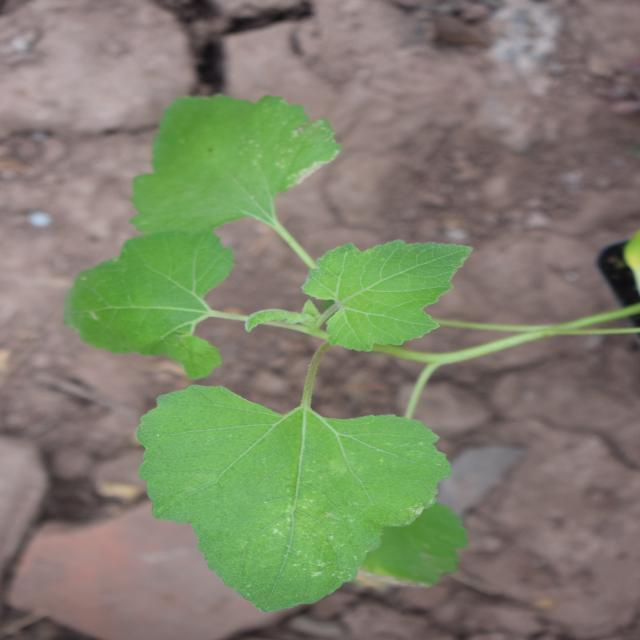cocklebur: (23, 72, 555, 503)
